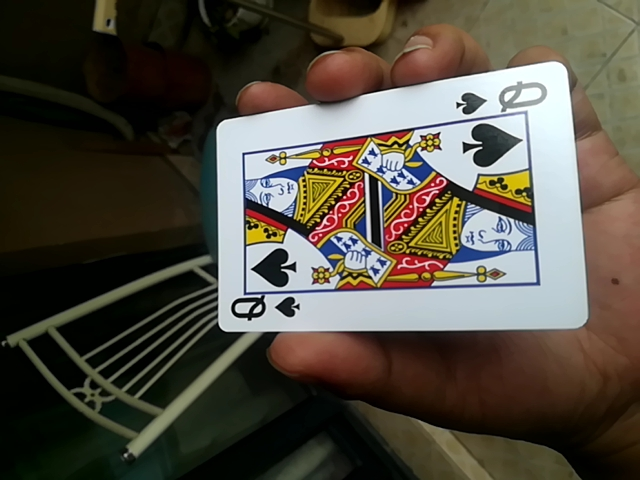ht q: (207, 63, 590, 340)
